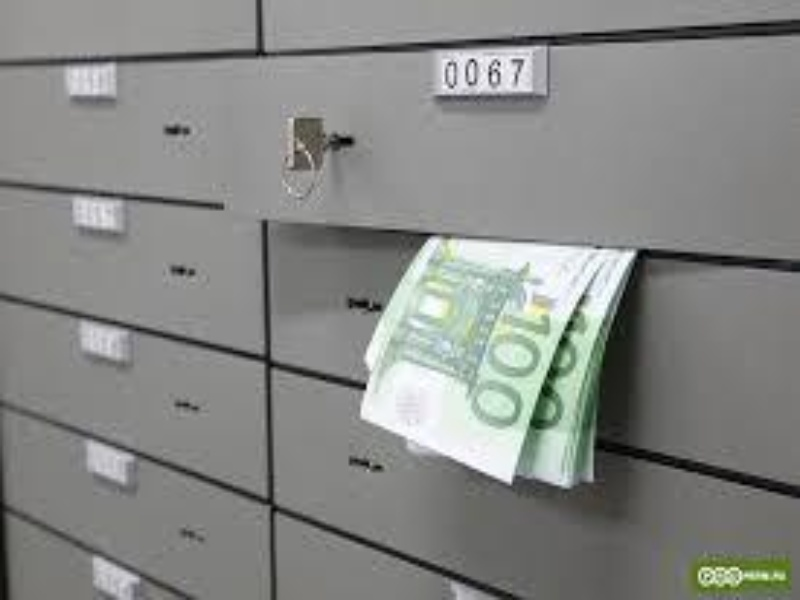cash: (360, 236, 638, 489)
